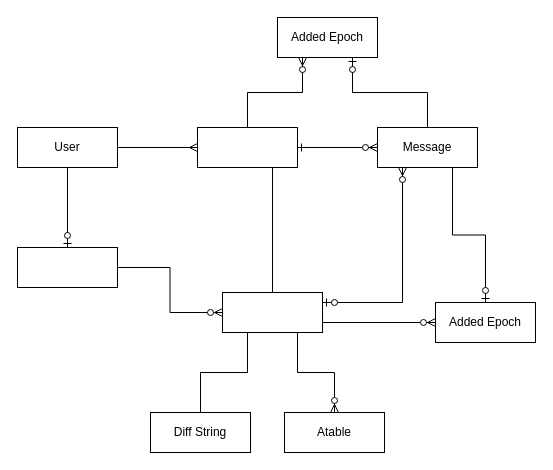
Some shapes in this 553 by 470 pixel diagram are drawn without their labels. The shapes that lost their labels are listed below. From the top down, each one's centre as x and y in pixels, then its label:
At point (247, 147): "Box".
At point (67, 267): "Model".
At point (272, 312): "Daat".
